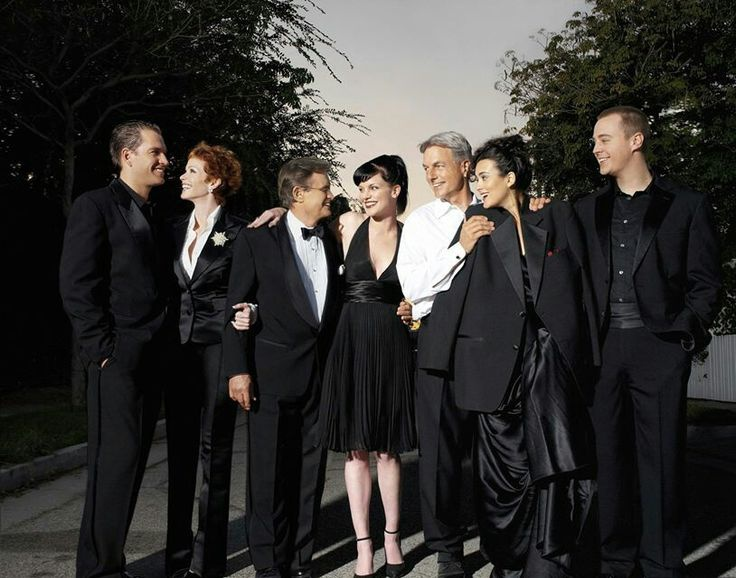bad: (573, 118, 625, 170), (461, 166, 497, 202), (417, 154, 453, 190), (349, 174, 385, 210)
